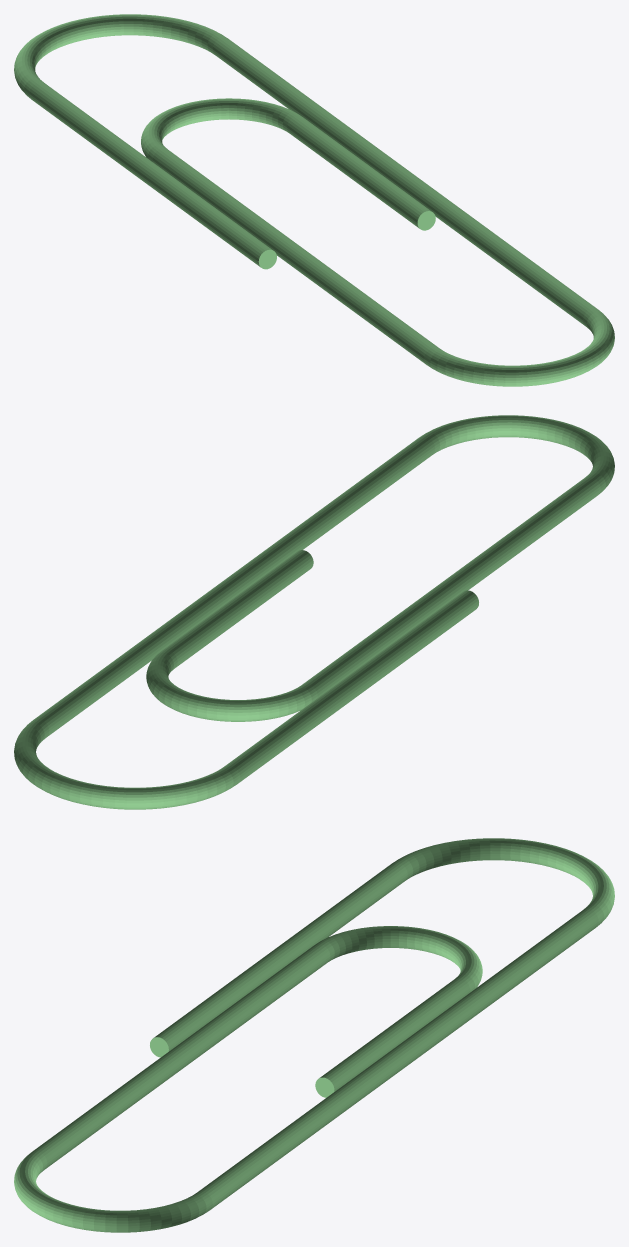
File: Paperclip.glb
The picture shows the model from 3 angles, top to bottom: view 1: azimuth 30°, elevation 25°; view 2: azimuth 150°, elevation 25°; view 3: azimuth 330°, elevation 25°; orthographic projection. The views are drawn at different scales.
Visible parts, largest first — view 1: Node1; view 2: Node1; view 3: Node1.
Part boxes in pixels (x1,y1,x2,y2): Node1: (14,14,614,386); Node1: (14,415,614,809); Node1: (14,838,614,1232).
Size of the model in its own units: 8.25 by 0.75 by 33.99.
